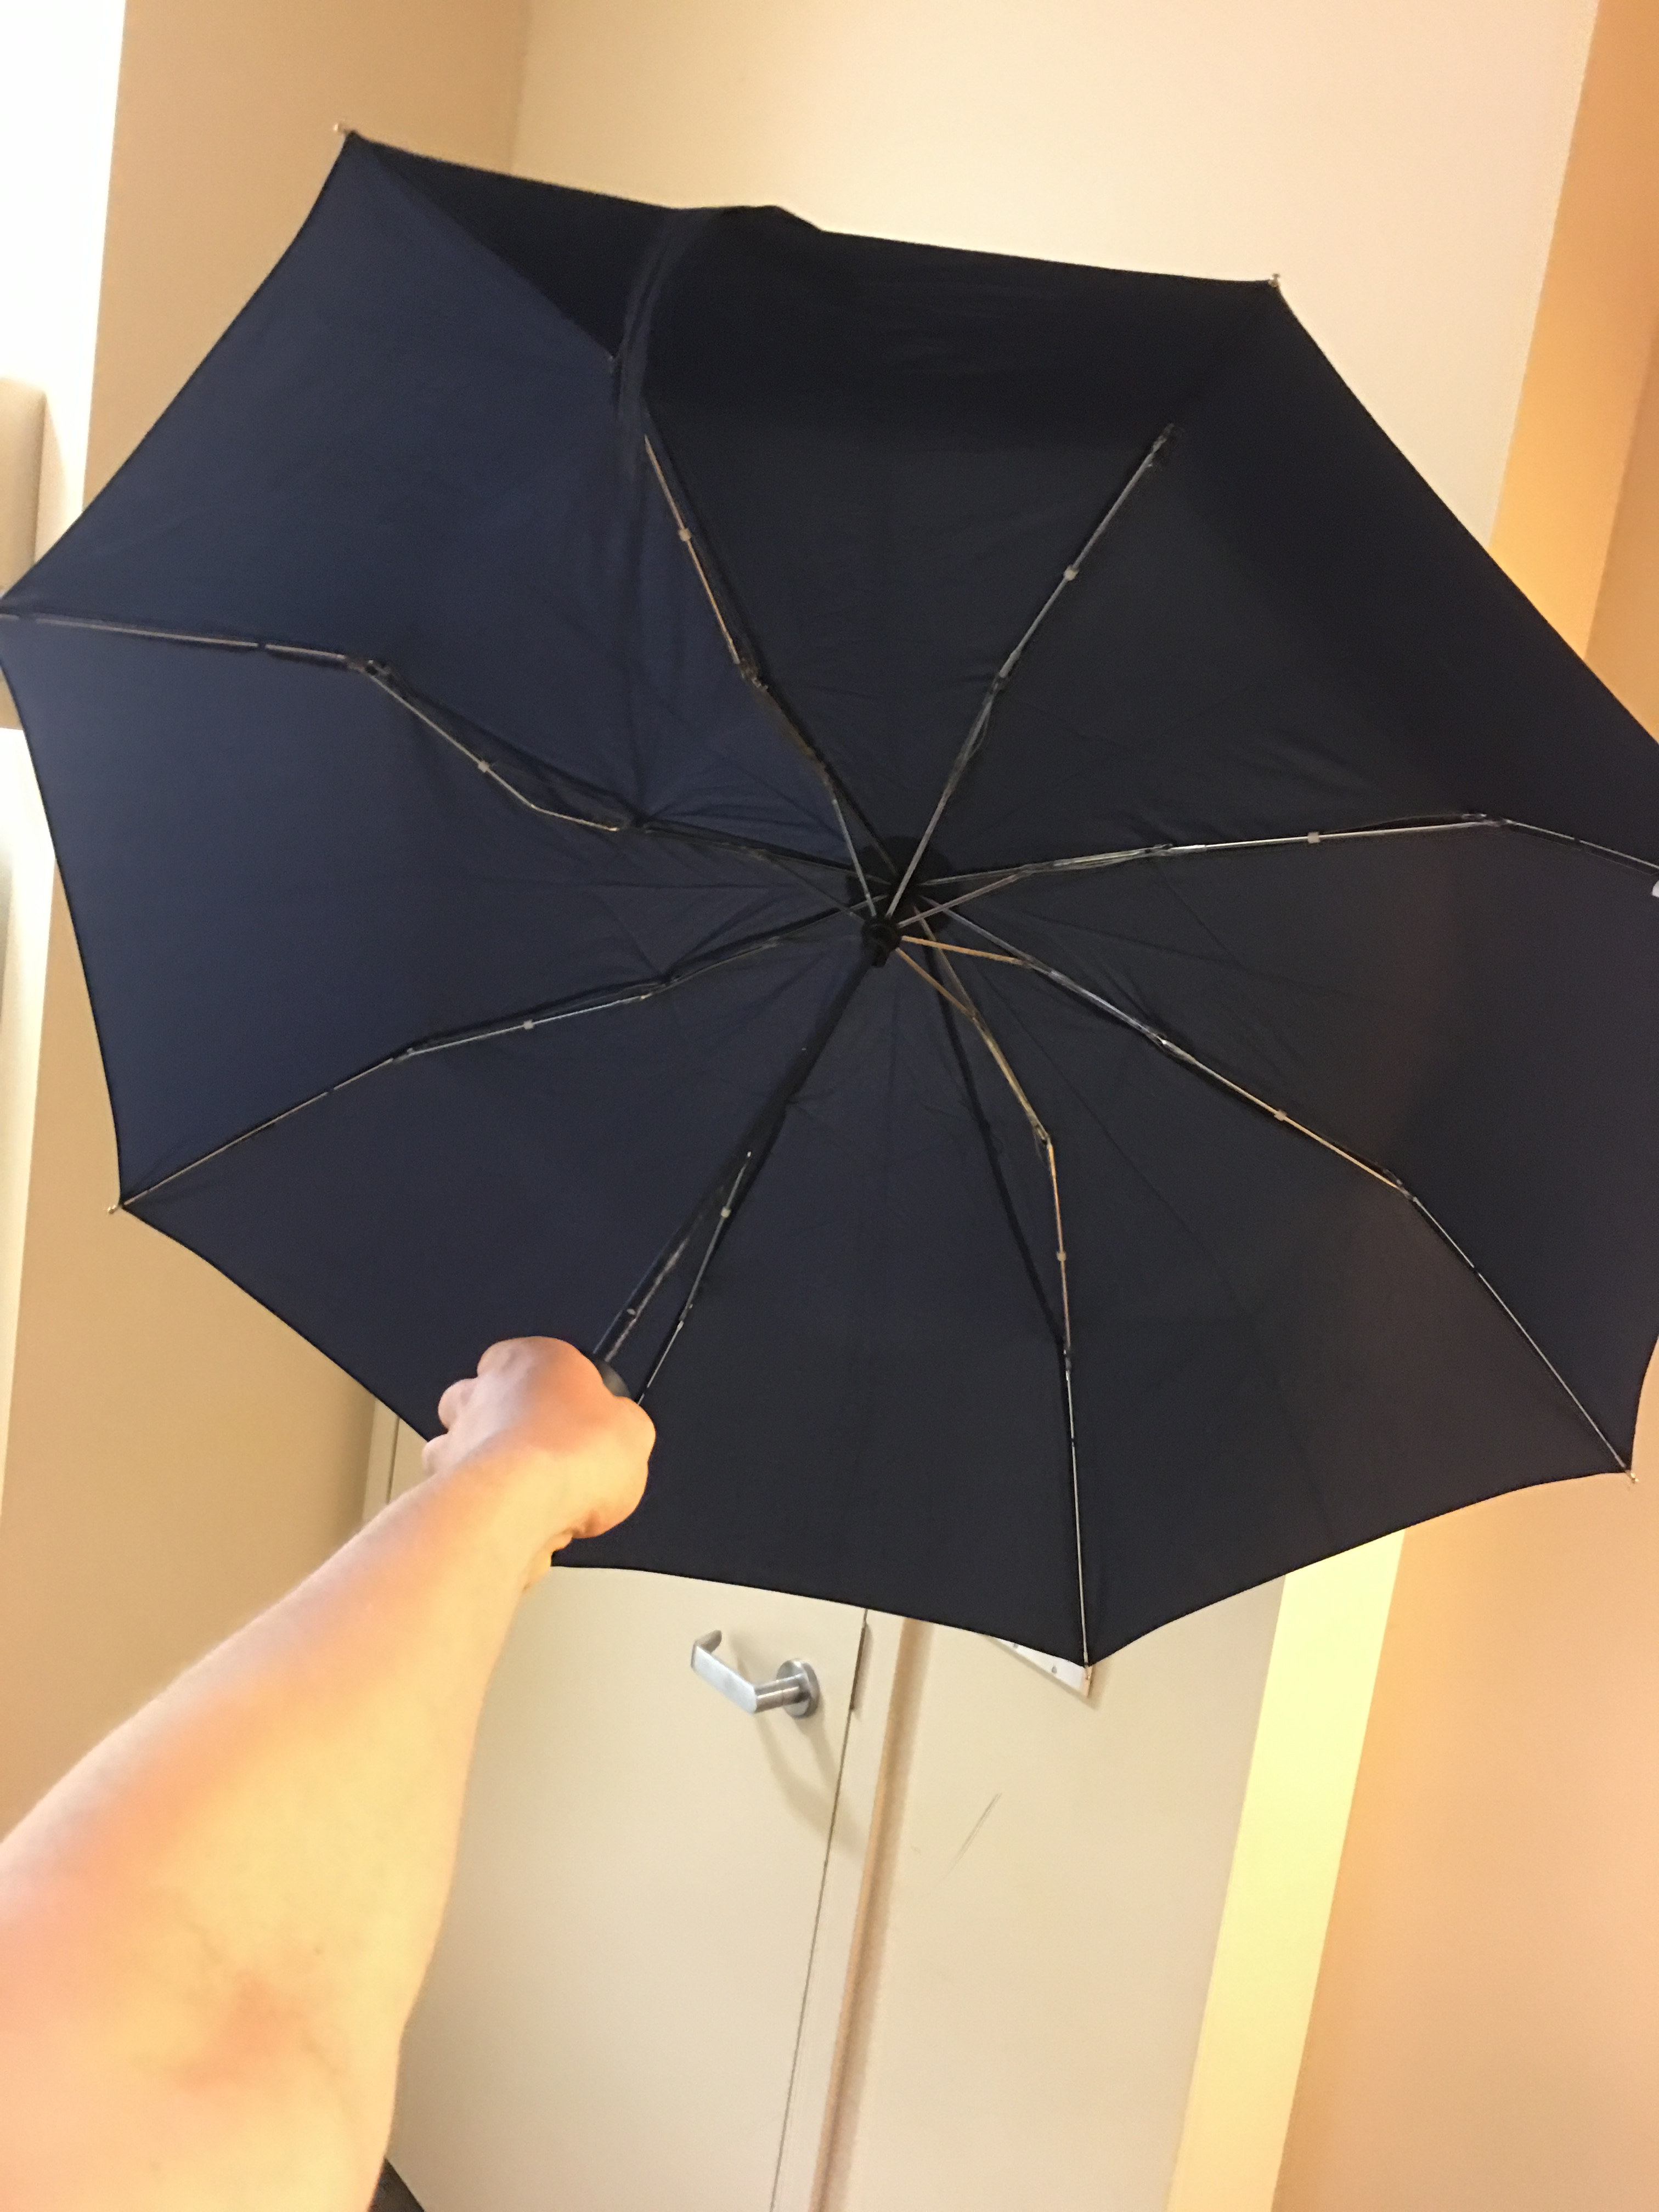Umbrella: (3, 118, 1659, 1665)
